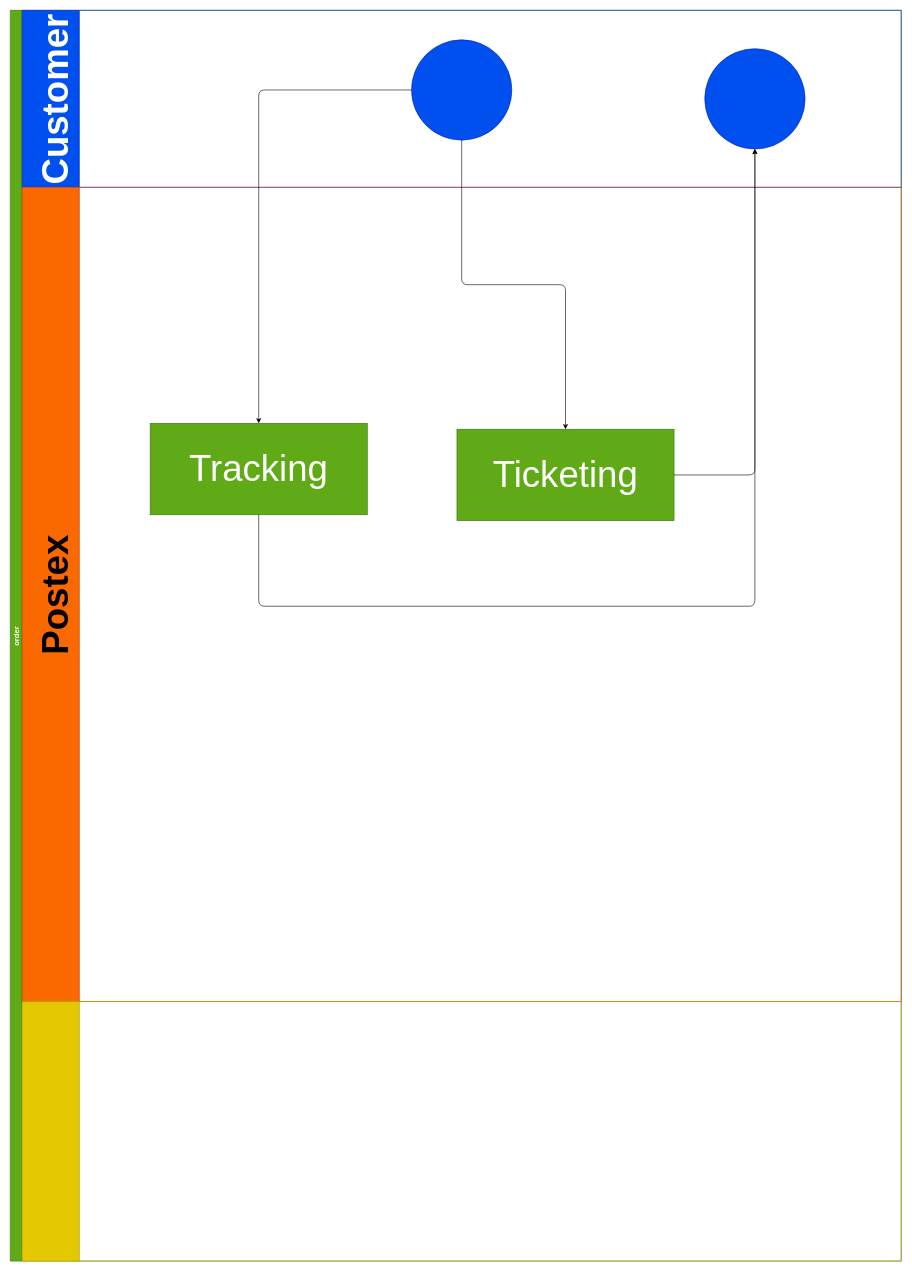
Image size: 912x1271. Some labels were removed from this diagram. Here are the shapes that lost their labels. From the top down, the centre of each, then its label:
[461,89]: شروع
[754,98]: پایان
[461,1131]: Other service
